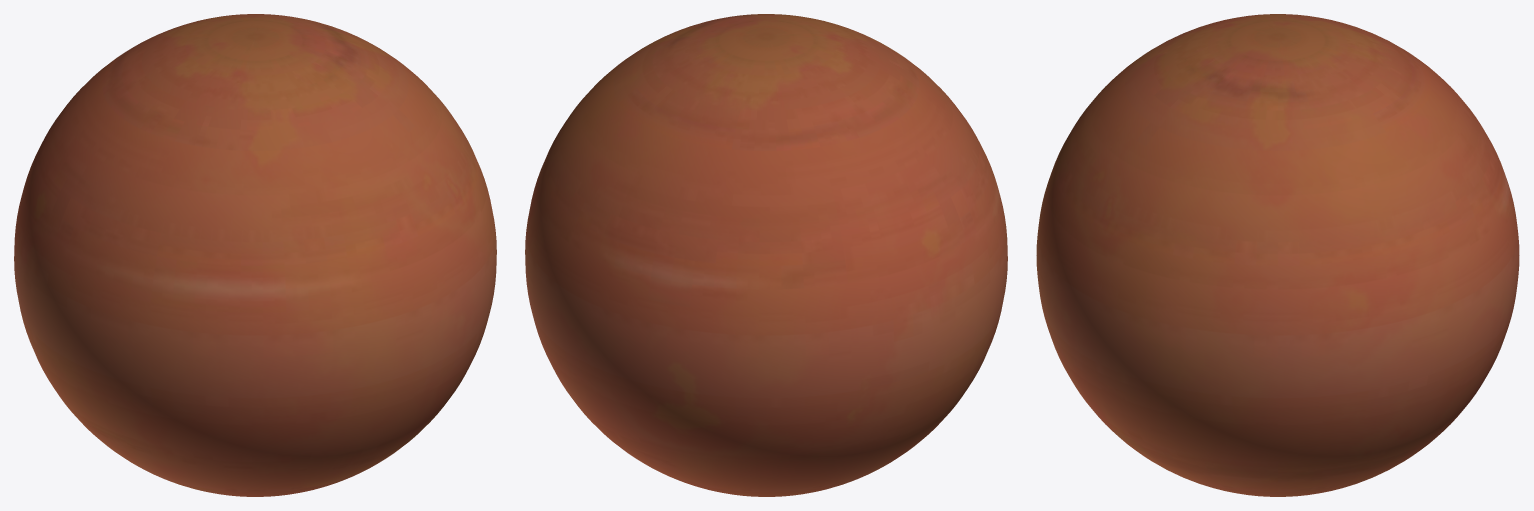
Rendered from WASP-97_b.glb.
3 views of the same model, side by side, from view 1: azimuth 30°, elevation 25°; view 2: azimuth 150°, elevation 25°; view 3: azimuth 270°, elevation 25° (orthographic).
Parts seen in each view (by area): view 1: WASP-97 b; view 2: WASP-97 b; view 3: WASP-97 b.
Boxes of the visible parts, x1,y1,x2,y2 form: WASP-97 b: (14,14,496,496); WASP-97 b: (525,14,1007,496); WASP-97 b: (1036,14,1519,496).
Bounding box in the file's own units: 2 × 2 × 2.
Materials: 1 (1 with a texture image).
